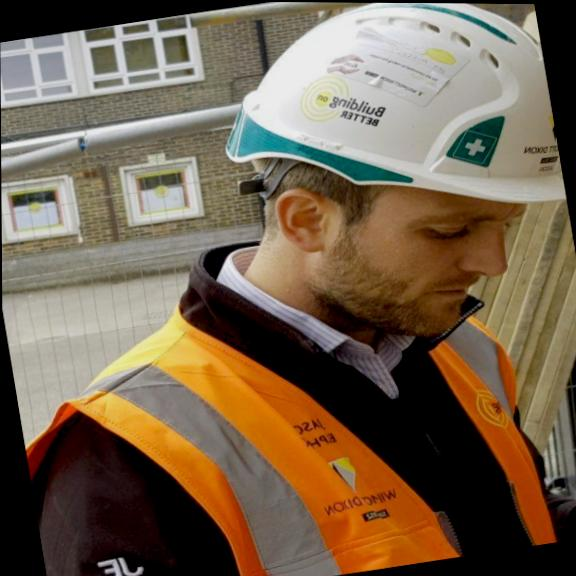safety_vest: (8, 267, 555, 576)
